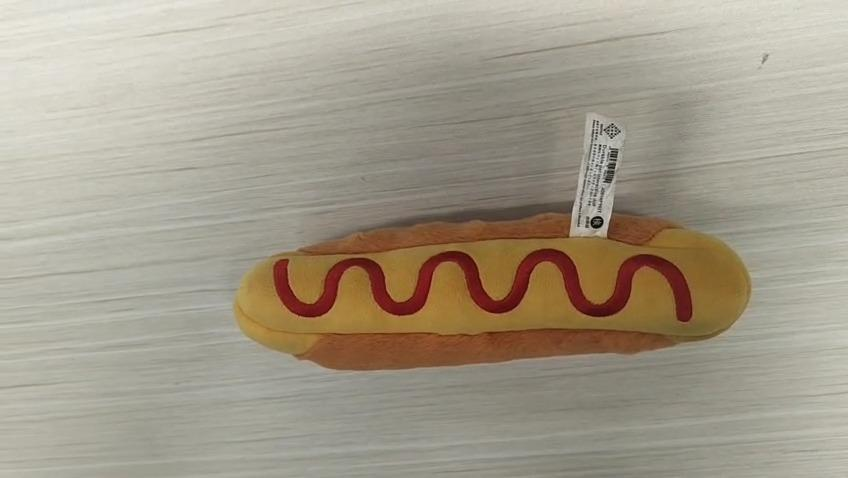hotdog: (232, 209, 752, 371)
